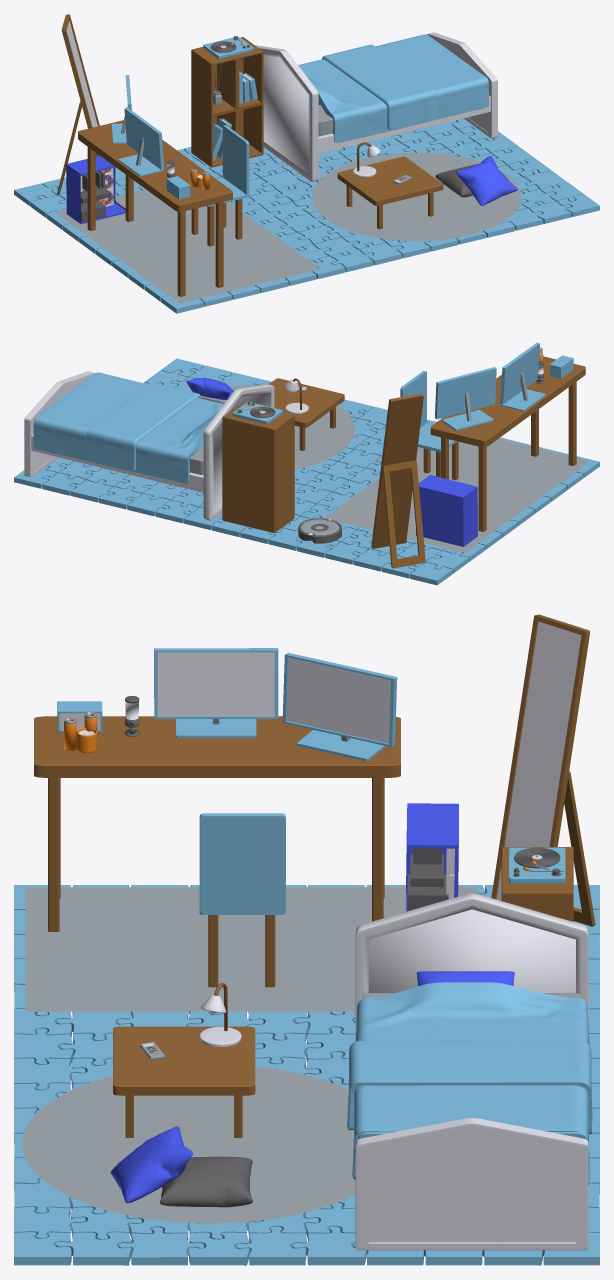
File: room-transformed.glb
3 renders of one model, top to bottom at view 1: azimuth 30°, elevation 25°; view 2: azimuth 150°, elevation 25°; view 3: azimuth 270°, elevation 25°, orthographic. The views are drawn at different scales.
Parts seen in each view (by area): view 1: runba; view 2: runba; view 3: runba.
Boxes of the visible parts, x1=… form: runba: x1=14, y1=14, x2=599, y2=313; runba: x1=14, y1=342, x2=599, y2=585; runba: x1=14, y1=614, x2=599, y2=1265.
Bounding box in the file's own units: 4.5 × 1.74 × 3.
Materials: 1 (1 with a texture image).
